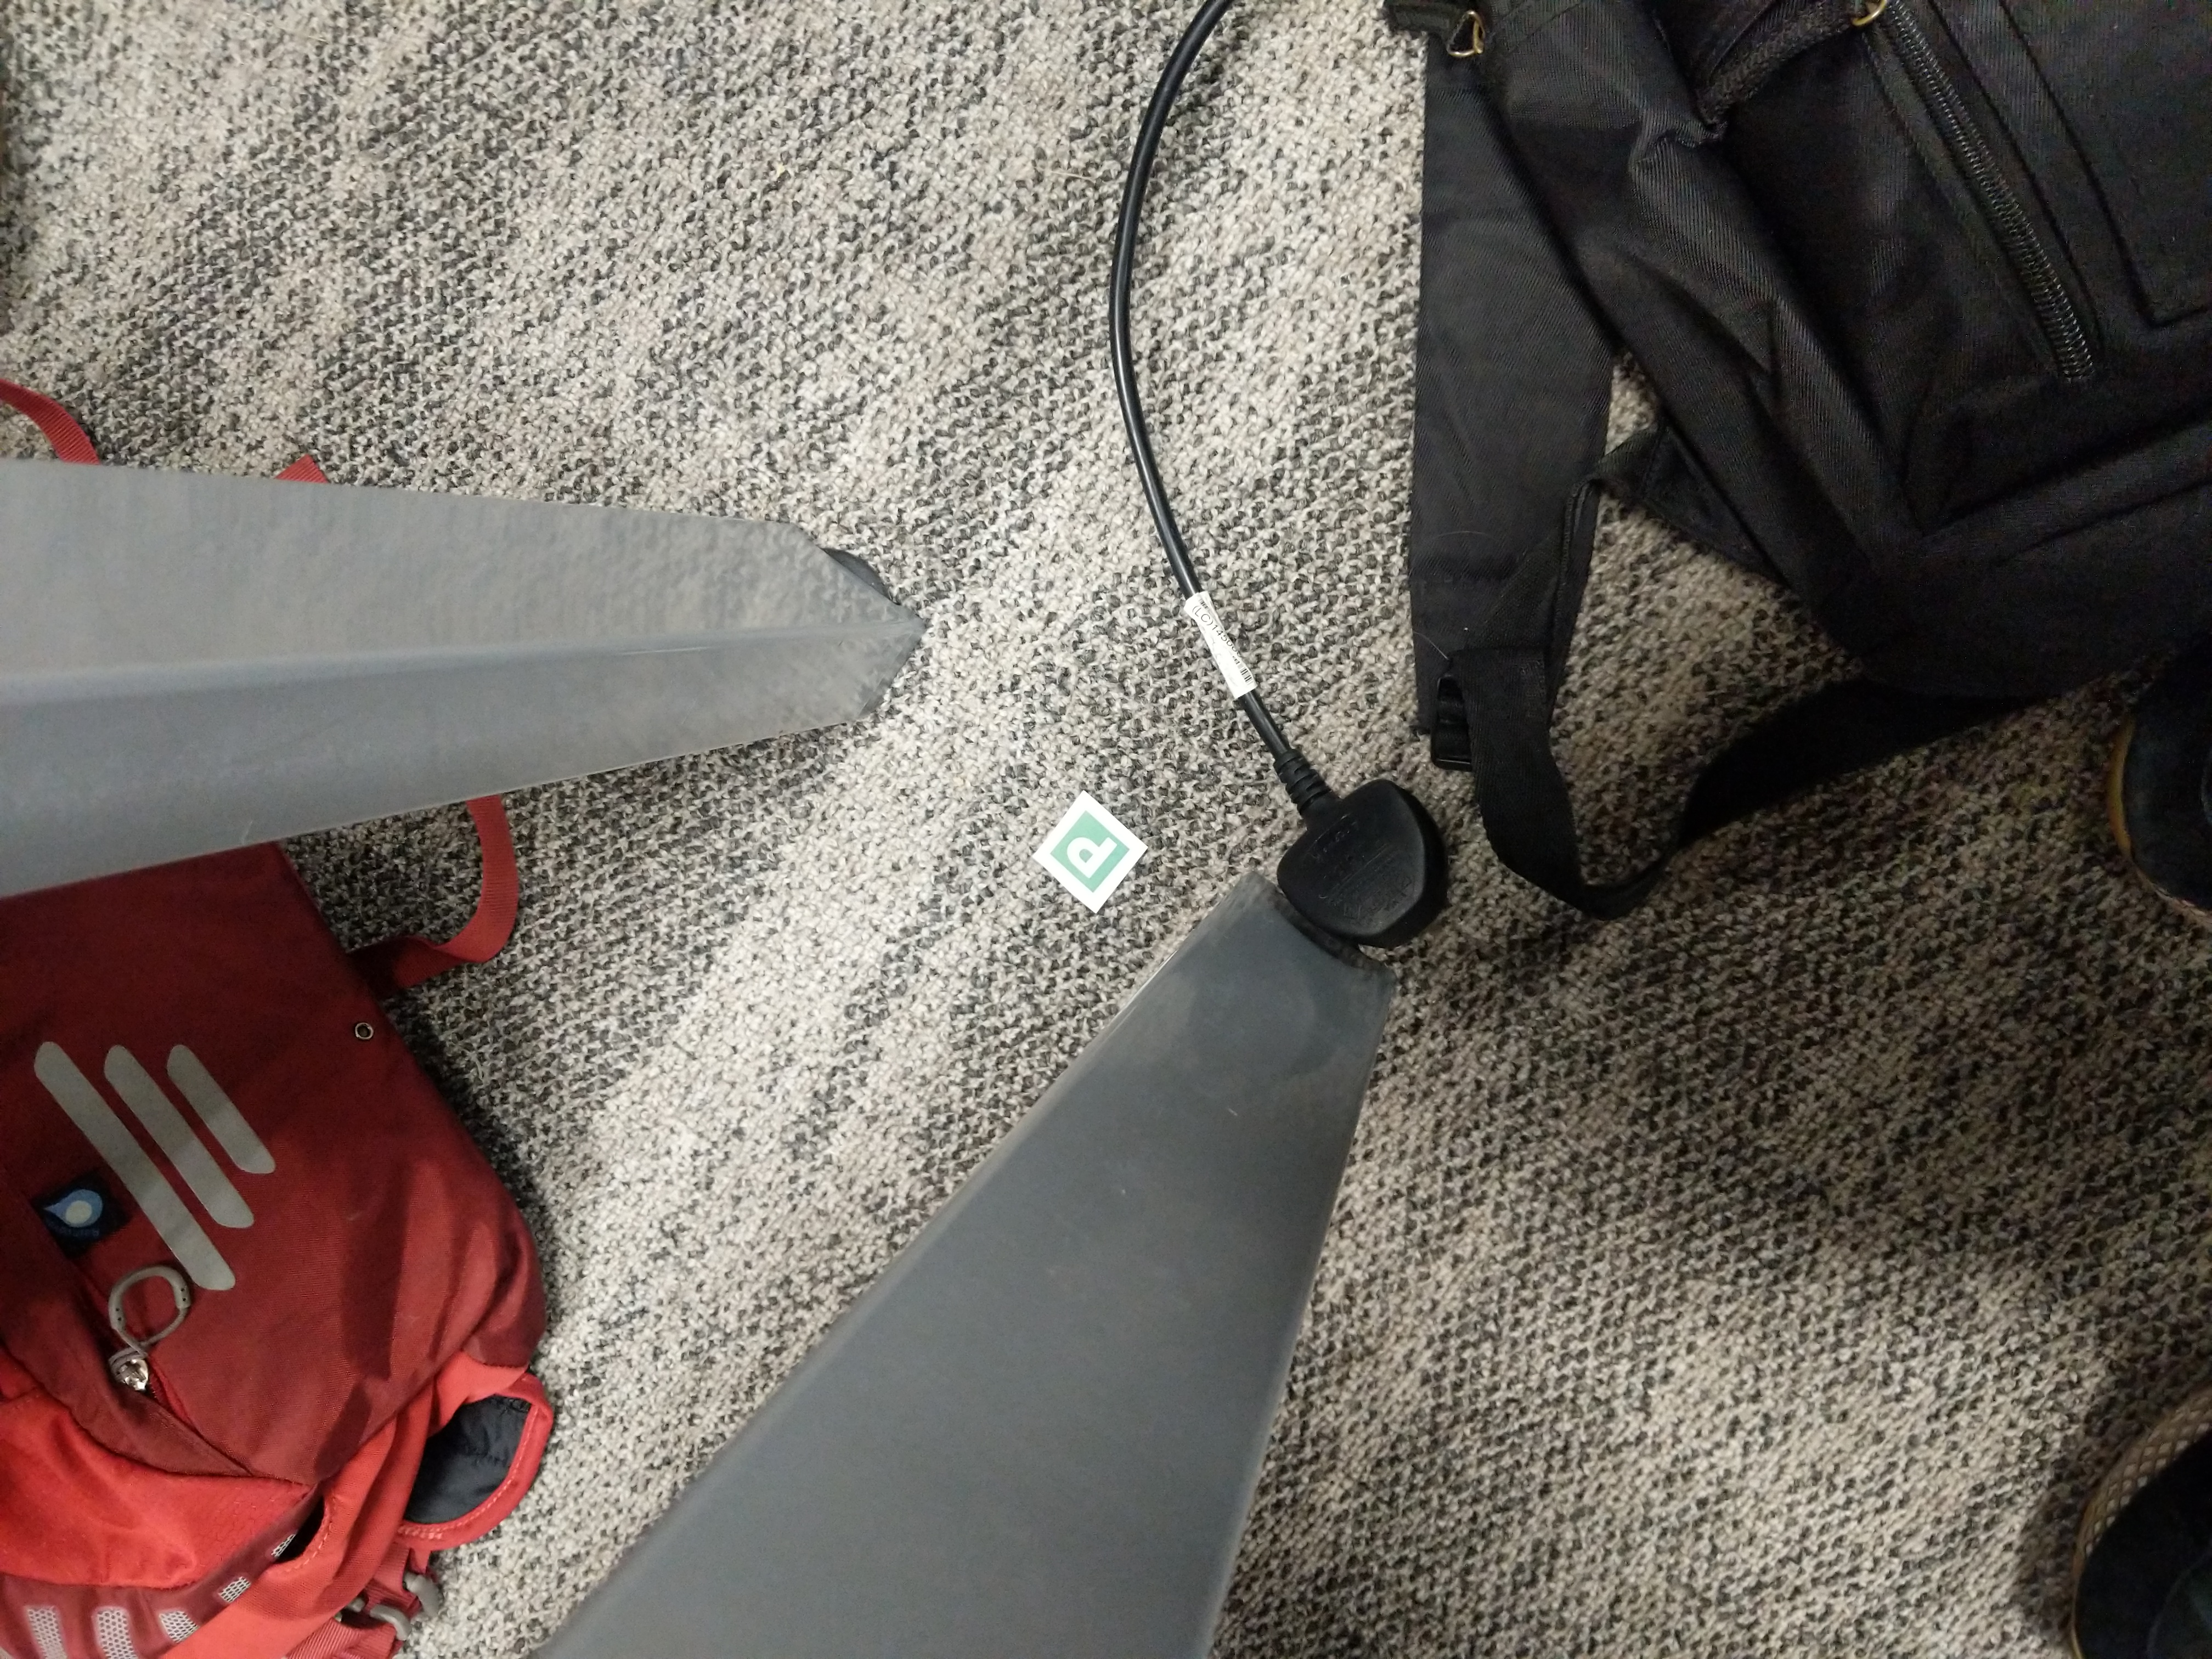marker: (1028, 786, 1160, 911)
